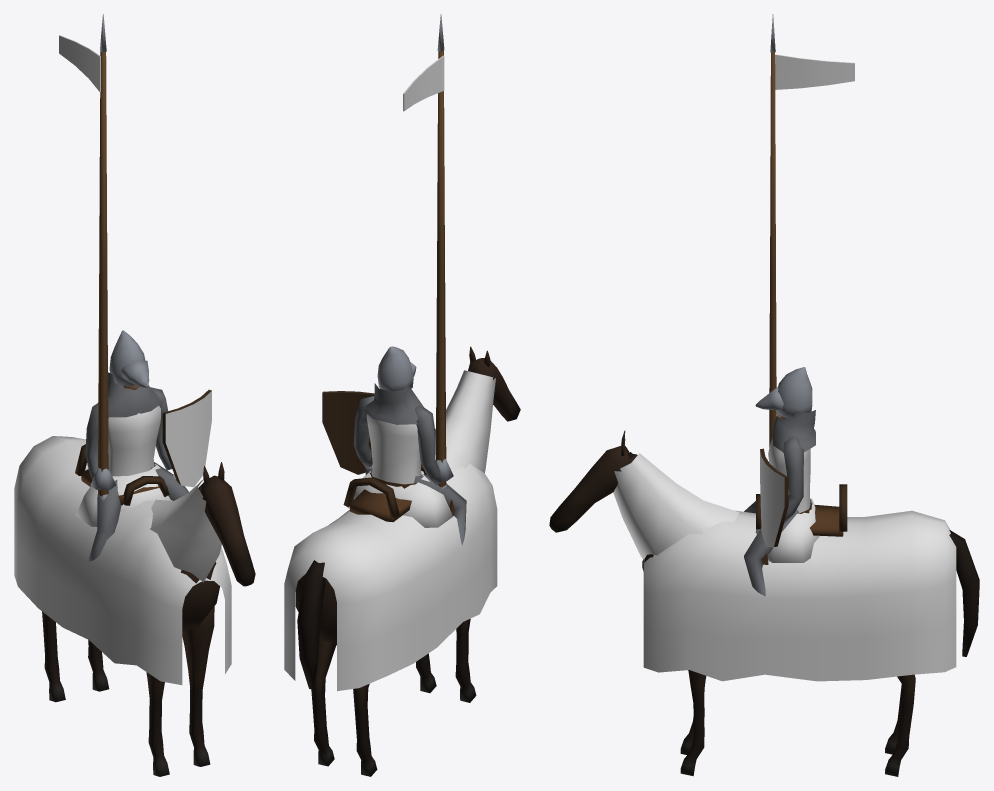
The model's file is cavalry_0_lod.glb.
The picture shows the model from 3 angles, left to right: view 1: azimuth 30°, elevation 25°; view 2: azimuth 150°, elevation 25°; view 3: azimuth 270°, elevation 25°; orthographic projection.
Visible parts, largest first — view 1: cavalry_0_lod; view 2: cavalry_0_lod; view 3: cavalry_0_lod.
Part boxes in pixels (x1,y1,x2,y2): cavalry_0_lod: (14,14,255,776); cavalry_0_lod: (284,14,520,776); cavalry_0_lod: (549,14,979,776).
Bounding box in the file's own units: 0.9372 × 4.94 × 2.63.
